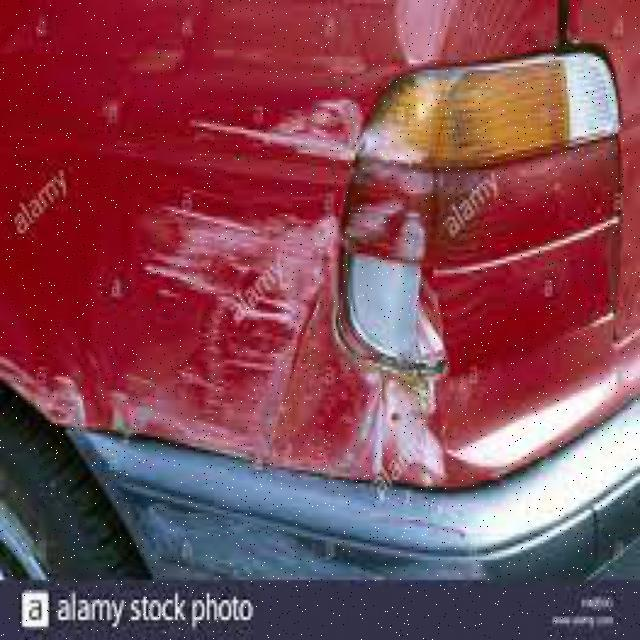Taillight-Damage: (309, 74, 504, 394)
quaterpanel-dent: (0, 0, 324, 470)
